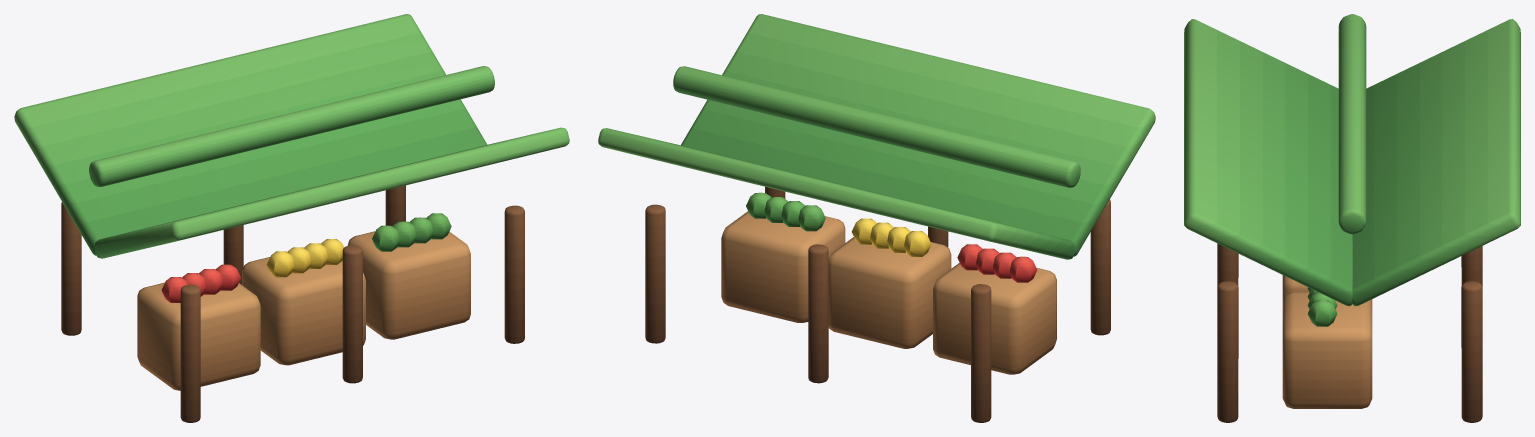
Rendered from marketG.glb.
3 views of the same model, side by side, from view 1: azimuth 30°, elevation 25°; view 2: azimuth 150°, elevation 25°; view 3: azimuth 270°, elevation 25° (orthographic). The views are drawn at different scales.
Visible parts, largest first — view 1: marketG; view 2: marketG; view 3: marketG.
Boxes of the visible parts, bbox=[...] form: marketG: bbox=[14, 14, 569, 422]; marketG: bbox=[598, 14, 1155, 422]; marketG: bbox=[1184, 14, 1520, 422].
Size of the model in its own units: 1.88 by 1.01 by 1.35.
1 material, 1 textured.
